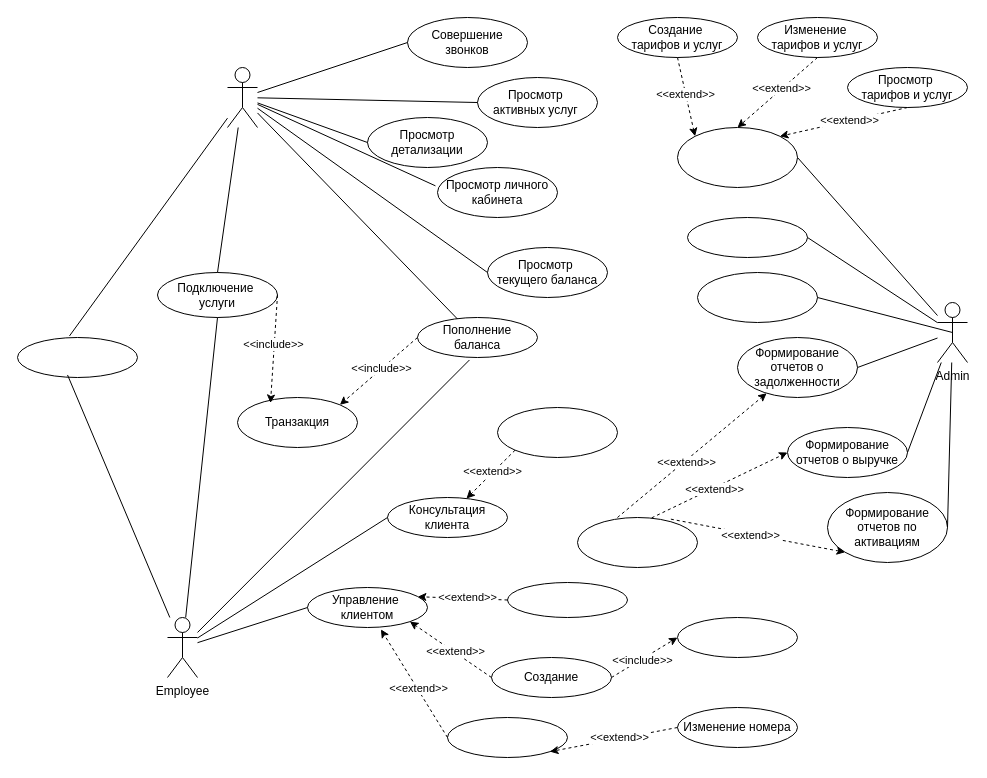
This 987x778 diagram has some shape labels left out. The centre of each missing label's shape, as x and y in pixels:
"Client" goes at pixel 242 97.
"Блокировка/разблокировка" goes at pixel 567 600.
"Изменение клиента" goes at pixel 507 737.
"Мониторинг системы" goes at pixel 747 237.
"Привязка номера" goes at pixel 737 637.
"Просмотр истории звонков" goes at pixel 557 432.
"Смена тарифа" goes at pixel 77 357.
"Управление Log Shipping" goes at pixel 757 297.
"Управление тарифами и услугами" goes at pixel 737 157.
"Экспорт в CSV" goes at pixel 637 542.
